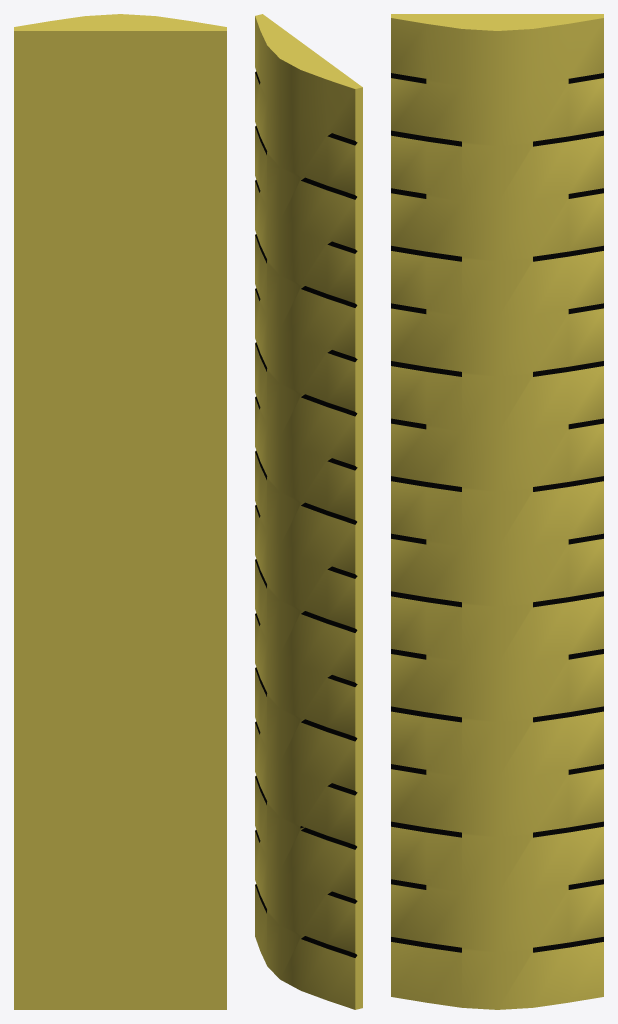
File: Ruler.fbx
The picture shows the model from 3 angles, left to right: view 1: azimuth 90°, elevation 25°; view 2: azimuth 210°, elevation 25°; view 3: azimuth 270°, elevation 25°; orthographic projection. The views are drawn at different scales.
Parts seen in each view (by area): view 1: Ruler; view 2: Ruler; view 3: Ruler.
Boxes of the visible parts, x1,y1,x2,y2 form: Ruler: (14,14,226,1009); Ruler: (255,14,362,1009); Ruler: (391,14,603,1009).
Size of the model in its own units: 0.1897 by 5.07 by 1.
